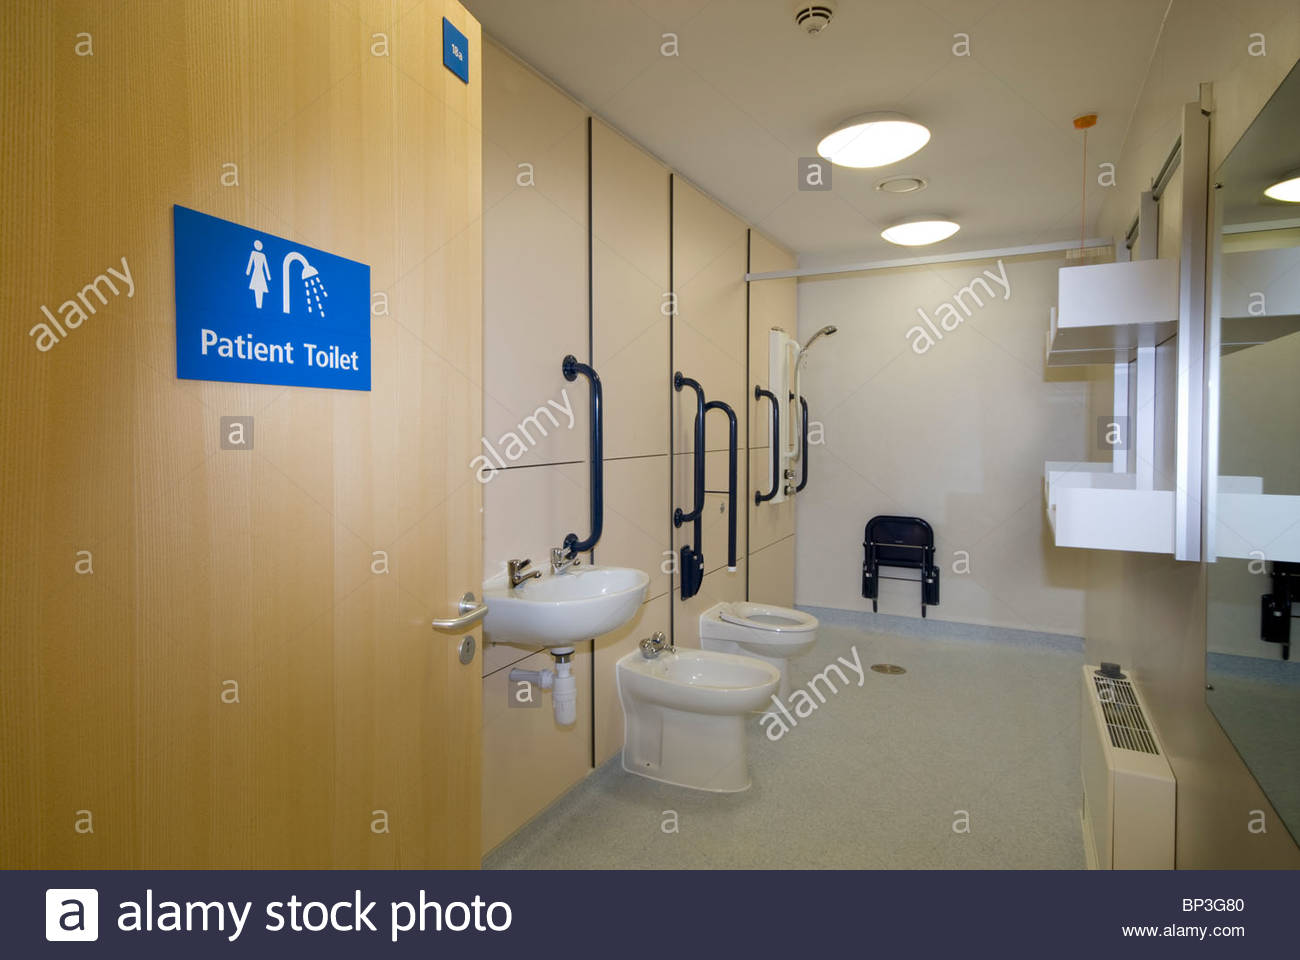door_handle: (418, 585, 497, 661)
faucet: (501, 557, 549, 591), (551, 543, 592, 578)
restroom_assist_bar: (695, 399, 747, 577), (564, 359, 605, 558), (672, 376, 710, 525), (758, 384, 785, 517), (786, 390, 814, 498)
sink: (481, 564, 649, 687)
toilet: (621, 642, 772, 792), (698, 601, 818, 714)
